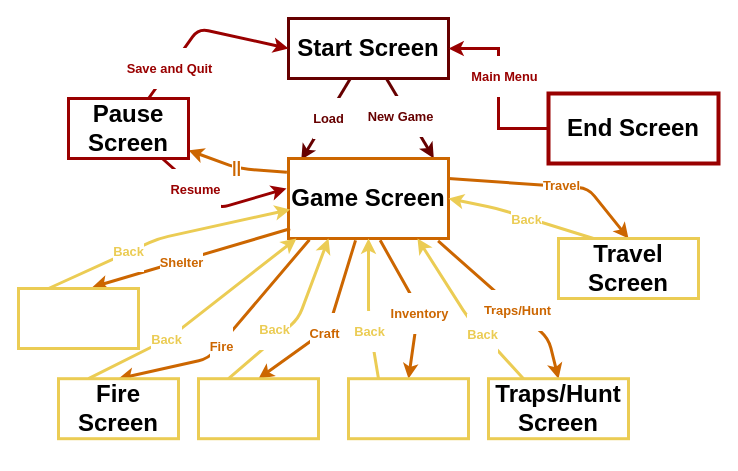
This 738x471 diagram has some shape labels left out. Each missing label, with the centre of its shape:
"Craft Screen" belongs at (258,408).
"Inventory Screen" belongs at (408,408).
"Shelter Screen" belongs at (78,318).
